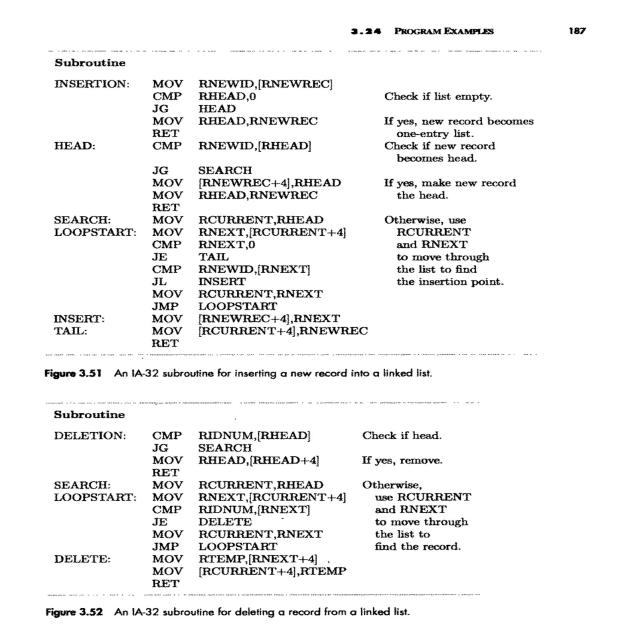diagram: (16, 53, 567, 387), (14, 396, 521, 624)
